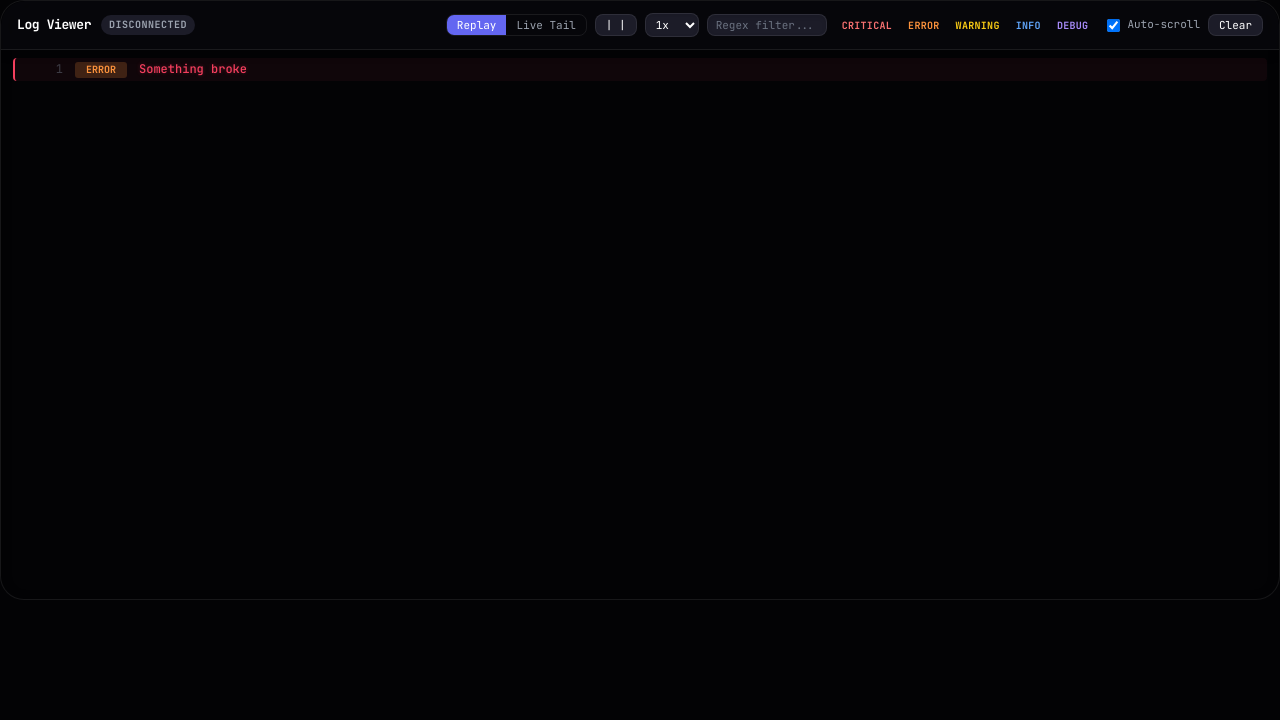
Test case: LiveLogViewer › handles incoming log messages and level filtering
The width and height of the screenshot is (1280, 720).
Expected: the number of elements with class "log-entry" is 1, [13,58,1267,81]
Expected: the element with class "log-entry" shows "ERROR", [86,63,116,76]
Toggle off ERROR level
Click the button with class "level-error" at (924, 25), box [901,16,947,34]
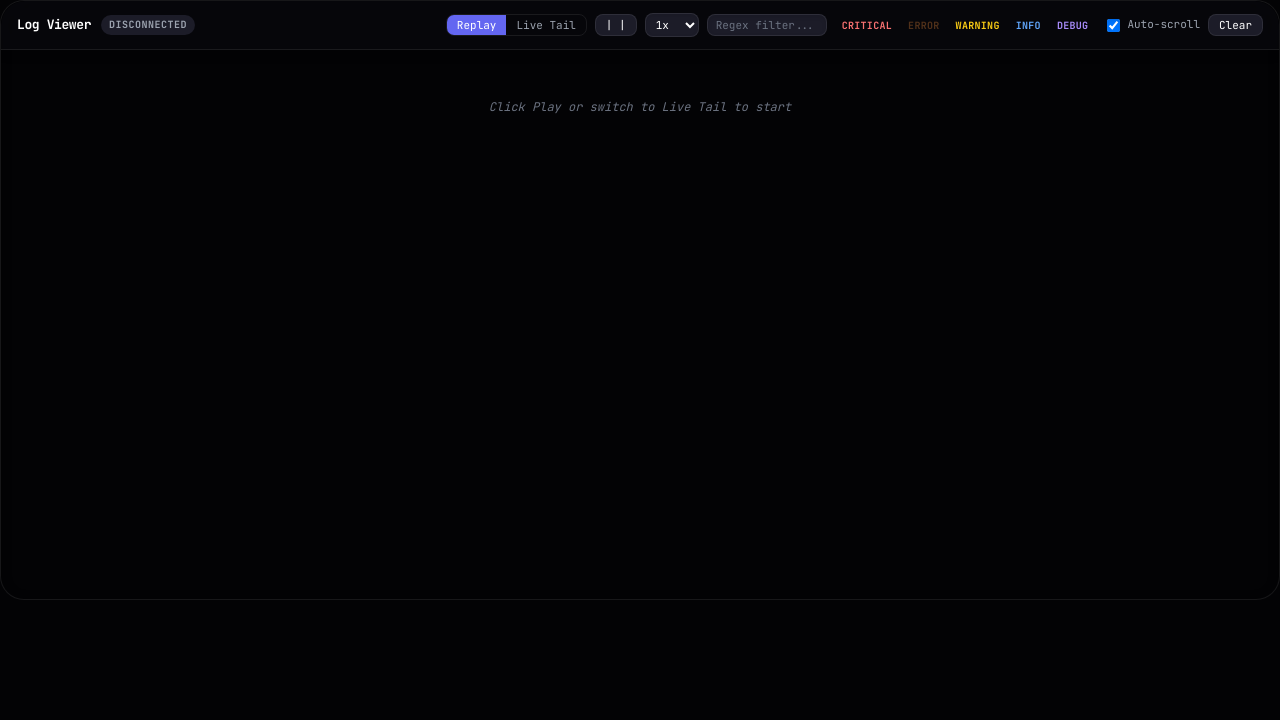
Expected: no elements with class "log-entry" are shown
